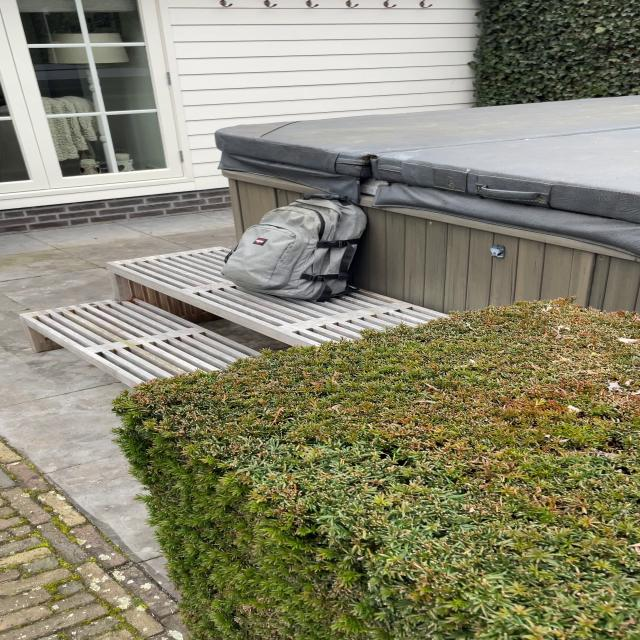backpack: (217, 189, 374, 303)
